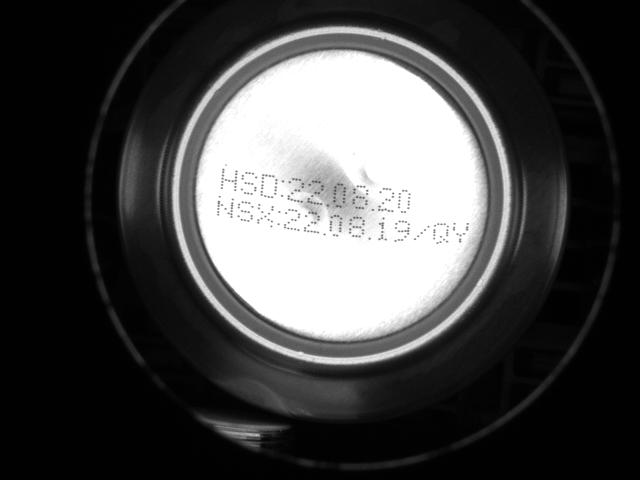.: (324, 194, 331, 209), (321, 222, 328, 237), (368, 197, 375, 212), (366, 225, 373, 240)
/: (412, 223, 430, 242)
0: (332, 180, 346, 209), (328, 212, 342, 241), (397, 185, 411, 214)
1: (376, 215, 388, 241)
2: (286, 176, 304, 205), (283, 205, 301, 234), (305, 177, 323, 206), (302, 207, 320, 236), (376, 184, 394, 213)
8: (350, 181, 369, 210), (347, 212, 366, 241)
9: (392, 219, 411, 243)
:: (279, 177, 286, 199), (275, 207, 282, 229)
D: (260, 171, 278, 200)
H: (218, 164, 238, 195)
N: (215, 195, 234, 221)
Q: (431, 221, 451, 247)
S: (239, 169, 258, 198), (235, 196, 254, 225)
X: (256, 202, 274, 229)
Y: (450, 220, 472, 245)
